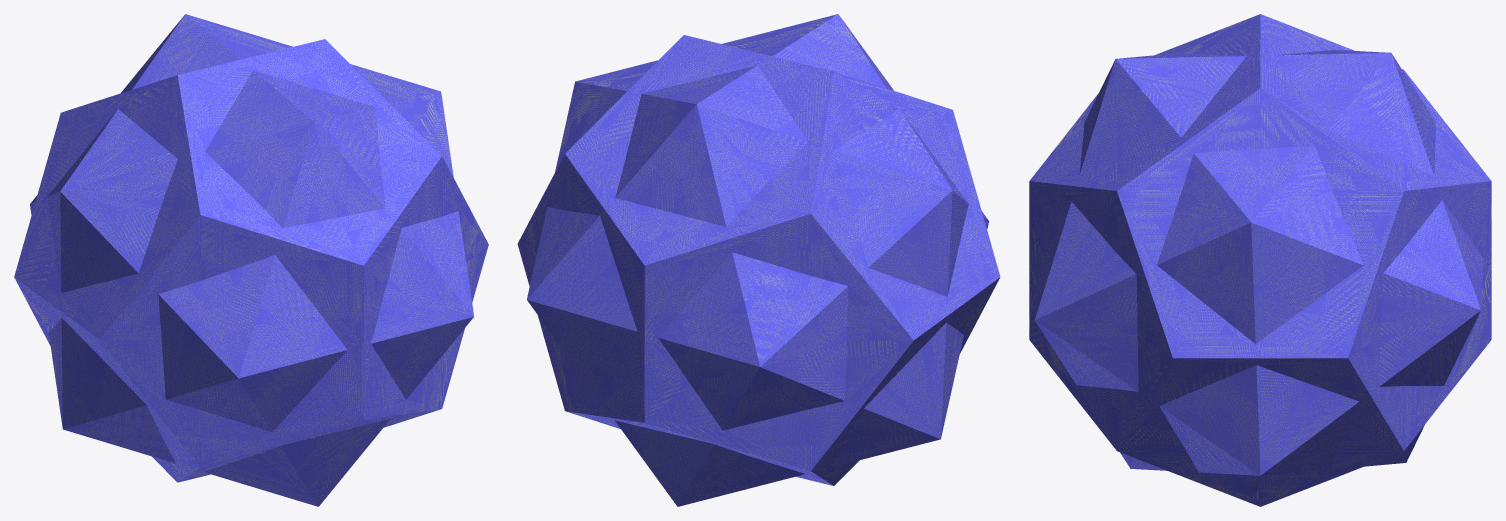
Rendered from bit.obj.
3 renders of one model, left to right at view 1: azimuth 30°, elevation 25°; view 2: azimuth 150°, elevation 25°; view 3: azimuth 270°, elevation 25°, orthographic. The views are drawn at different scales.
Visible parts, largest first — view 1: Material2, Material3; view 2: Material2, Material3; view 3: Material2, Material3.
Boxes of the visible parts, <box> form: Material2: <box>14,14,488,506</box>; Material3: <box>15,15,486,505</box>; Material2: <box>517,14,1000,506</box>; Material3: <box>518,15,999,505</box>; Material2: <box>1029,14,1491,506</box>; Material3: <box>1029,15,1491,506</box>.
Bounding box in the file's own units: 3 × 3 × 3.
